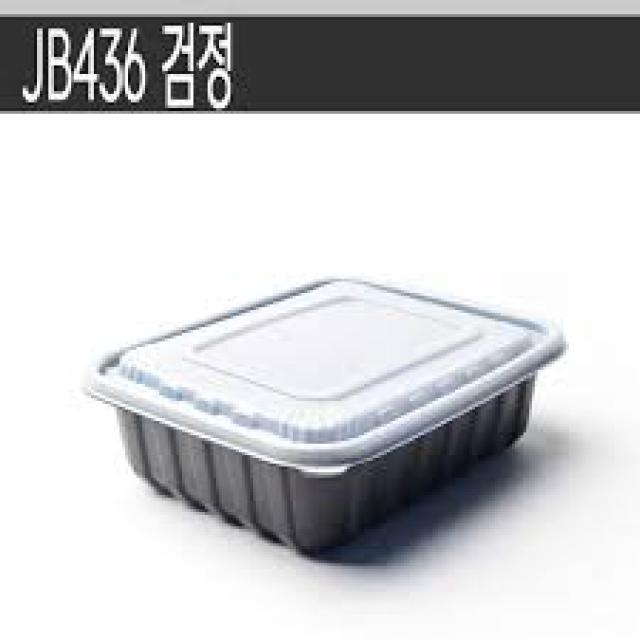disposable: (79, 262, 588, 565)
